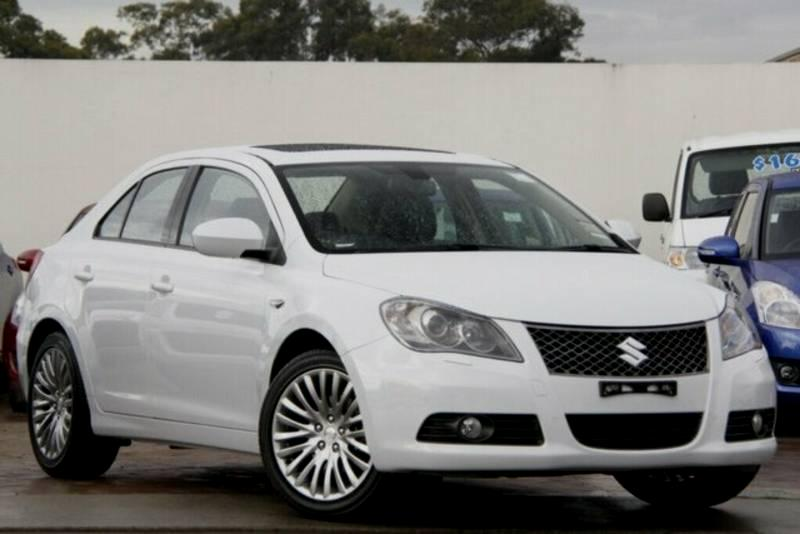suzuki: (610, 330, 651, 371)
